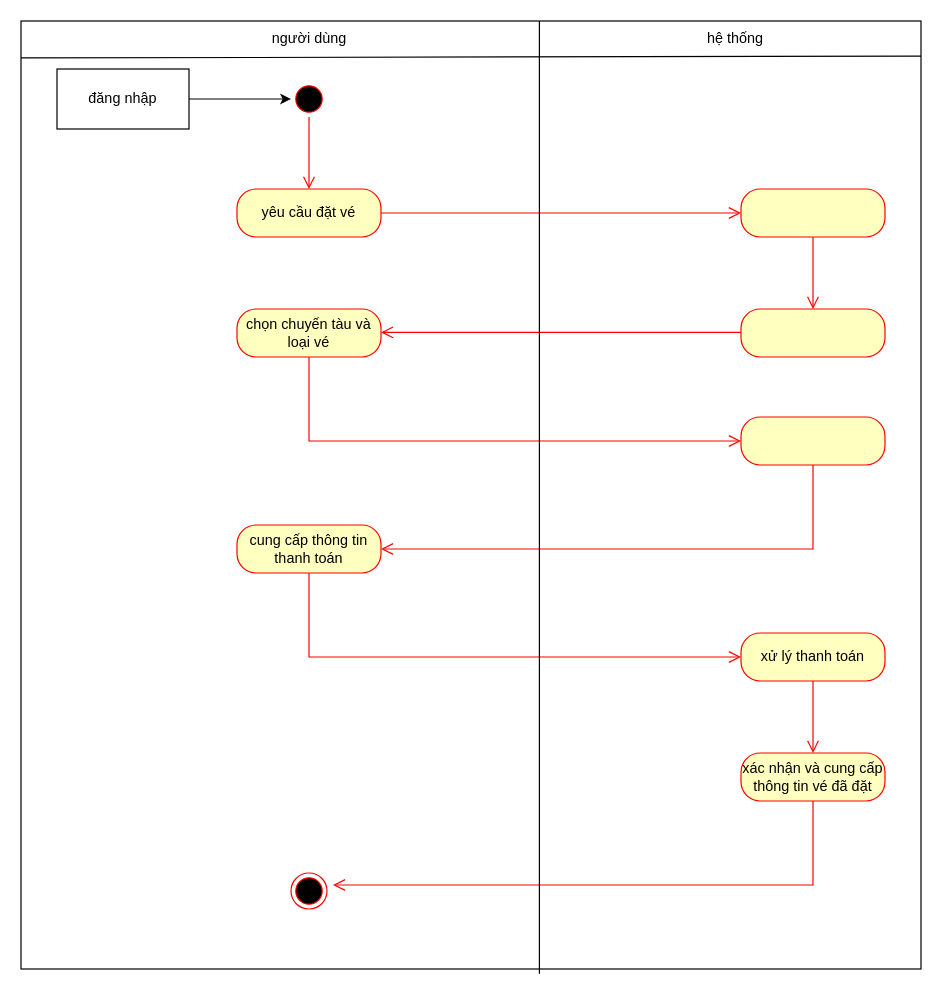
This 943x996 diagram has some shape labels left out. Each missing label, with the box of its shape:
hiển thị thông tin chuyến tàu khả dụng: (740, 308, 885, 357)
xác nhận yêu cầu: (740, 188, 885, 237)
yêu cầu thanh toán: (740, 416, 885, 465)
